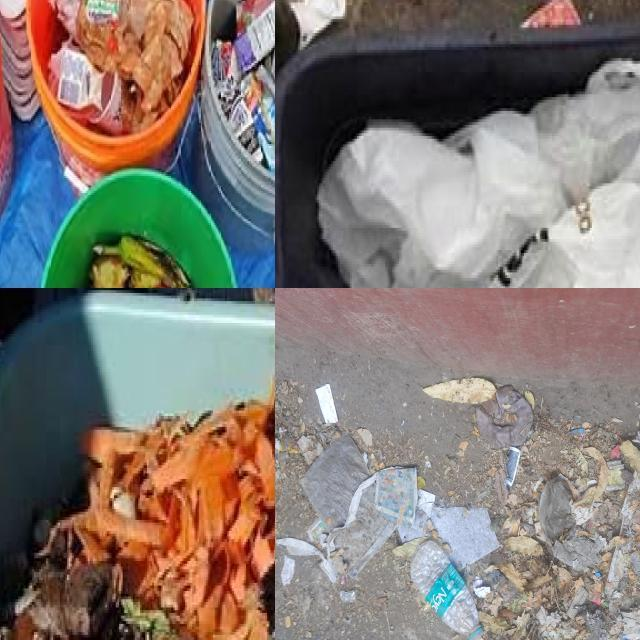Background: (275, 345, 640, 640)
Garbage: (0, 294, 275, 640), (319, 59, 640, 288), (212, 0, 275, 175)
Plastic_Bag: (301, 436, 396, 579), (538, 476, 575, 540)
Plastic_bottle: (411, 539, 483, 640)
Plastic_wraper: (375, 467, 418, 528), (504, 446, 521, 488), (605, 460, 625, 492), (306, 520, 326, 544), (631, 551, 640, 581), (593, 574, 601, 605)
Tetrapack: (212, 40, 263, 145), (234, 0, 275, 72), (255, 89, 275, 172)
